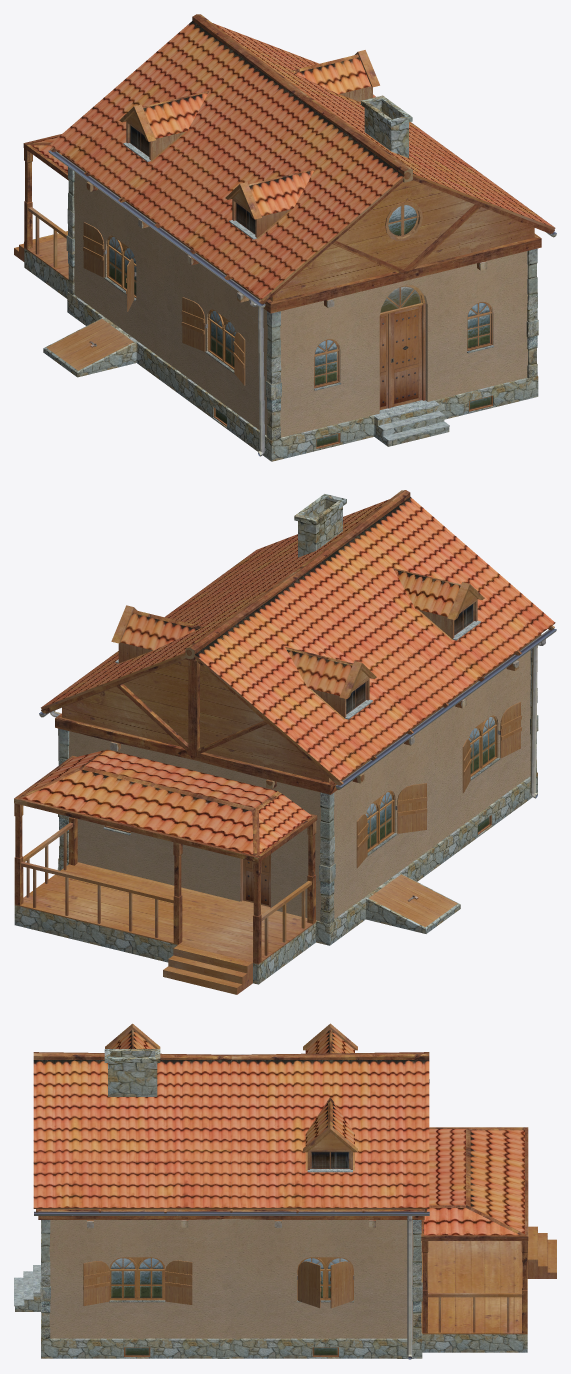
File: houseA_fbx.fbx
3 views of the same model, one above another, from view 1: azimuth 30°, elevation 25°; view 2: azimuth 150°, elevation 25°; view 3: azimuth 270°, elevation 25° (orthographic). The views are drawn at different scales.
Parts seen in each view (by area): view 1: houseA; view 2: houseA; view 3: houseA.
Part boxes in pixels (x1,y1,x2,y2): houseA: [14, 14, 556, 461]; houseA: [14, 490, 556, 994]; houseA: [14, 1023, 556, 1359].
Size of the model in its own units: 30.75 by 23.83 by 45.4.
2 materials, 1 textured.
